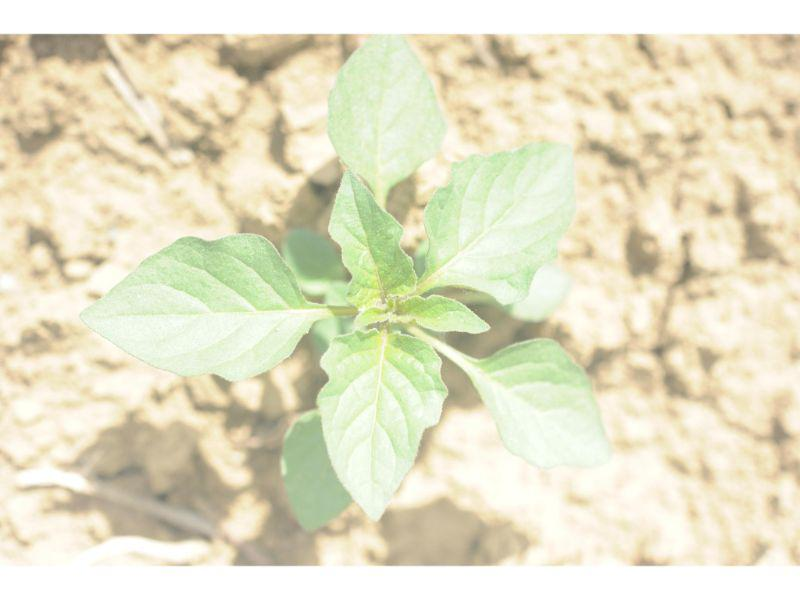nightshade: (83, 33, 615, 524)
